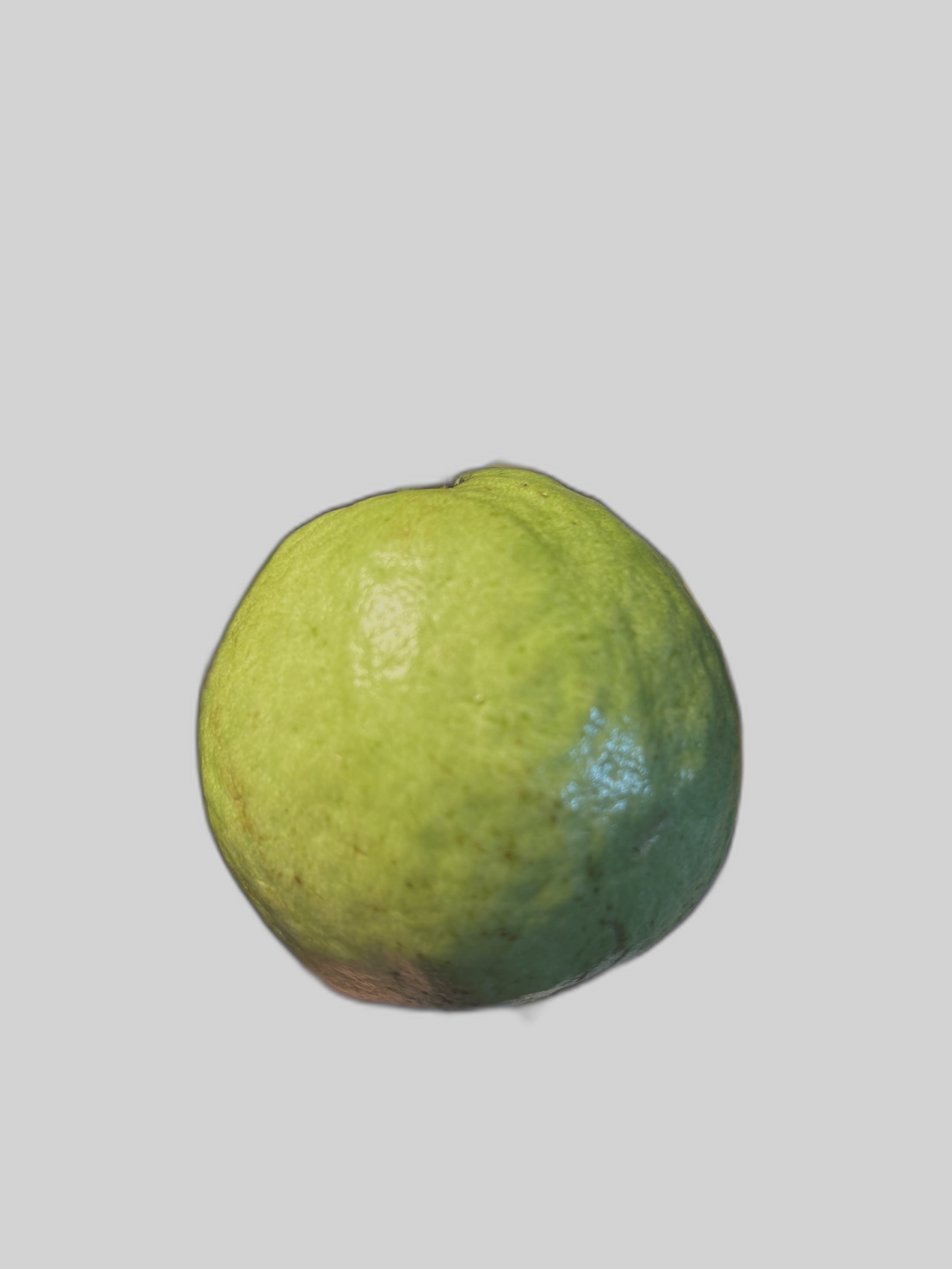guava: (42, 95, 721, 1000)
